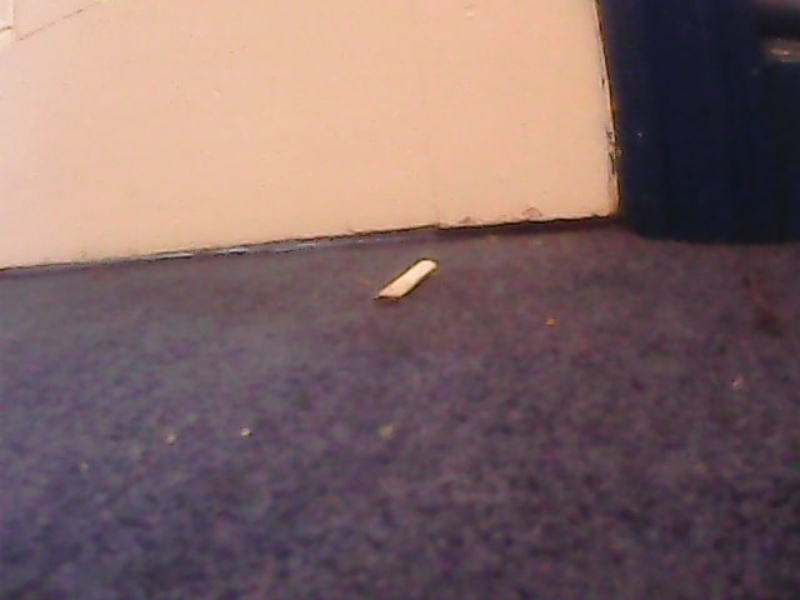cig: (379, 254, 439, 307)
